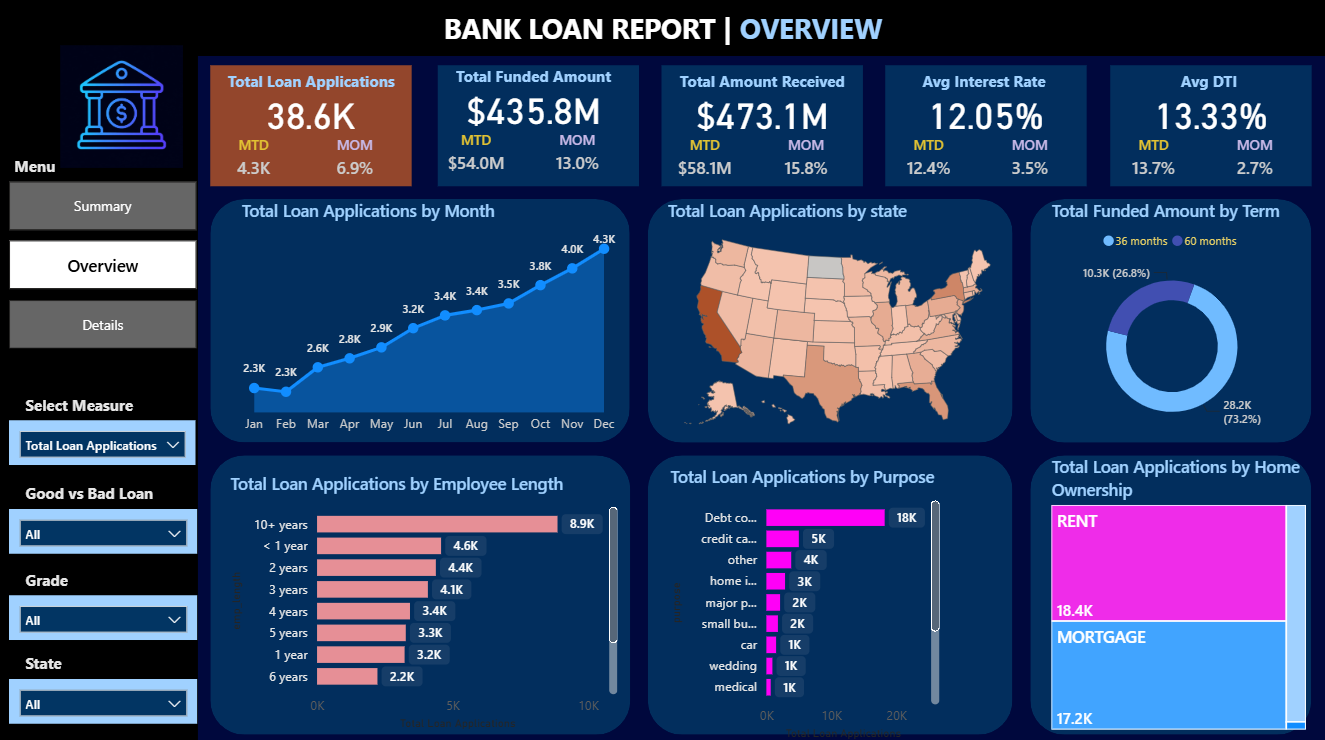

What the dashboard file says about the page in this screenshot:
{"tool":"powerbi","page":{"name":"Overview","canvas":[1280,720],"ordinal":1},"visuals":[{"type":"shape","box":[0,54.8,192,665.1],"z":0},{"type":"shape","box":[203.4,63.8,194.8,116.9],"z":0,"group":"g1"},{"type":"shape","box":[423.8,63.2,194.2,117],"z":1000,"group":"g2"},{"type":"shape","box":[639.2,63.6,194.8,116.9],"z":1000,"group":"g3"},{"type":"shape","box":[855.6,63.6,194.8,116.9],"z":1000,"group":"g4"},{"type":"shape","box":[1072,63.8,194.8,116.9],"z":1000,"group":"g5"},{"type":"card","fields":{"Values":["Bank_Loan_data.Total Loan Applications"]},"box":[203.4,82.6,194.8,53.4],"z":1000,"group":"g1"},{"type":"shape","box":[203.9,193,405,235],"z":1000},{"type":"shape","box":[0,0,1280,55],"z":2000},{"type":"textbox","box":[203.4,63.8,194.8,33.2],"z":2000,"group":"g1"},{"type":"textbox","box":[411.2,4.3,458.8,50.5],"z":3000},{"type":"card","fields":{"Values":["Bank_Loan_data.Total Funded Amount"]},"box":[419.2,77.6,194.8,53.4],"z":3000,"group":"g2"},{"type":"card","fields":{"Values":["Bank_Loan_data.Total Amount Received"]},"box":[639.2,82.4,194.8,53.4],"z":3000,"group":"g3"},{"type":"card","fields":{"Values":["Bank_Loan_data.Avg Interest Rate"]},"box":[855.6,82.4,194.8,53.4],"z":3000,"group":"g4"},{"type":"card","fields":{"Values":["Bank_Loan_data.Avg DTI"]},"box":[1072,82.6,194.8,53.4],"z":3000,"group":"g5"},{"type":"card","title":"MTD","fields":{"Values":["Date Table.MTD Loan Applications"]},"box":[203.4,131.6,83.7,49.1],"z":3000,"group":"g1"},{"type":"group","id":"g1","title":"Group 1","box":[203.4,63.8,194.8,116.9],"z":4000},{"type":"card","title":"MOM","fields":{"Values":["Date Table.MOM Loan Applications"]},"box":[301.5,131.6,83.7,49.1],"z":4000,"group":"g1"},{"type":"group","id":"g2","title":"Group 2","box":[419.2,58.8,199.1,121.9],"z":5000},{"type":"textbox","box":[419.2,58.8,194.8,33.2],"z":5000,"group":"g2"},{"type":"textbox","box":[639.2,63.6,194.8,33.2],"z":5000,"group":"g3"},{"type":"textbox","box":[855.6,63.6,194.8,33.2],"z":5000,"group":"g4"},{"type":"textbox","box":[1072,63.8,194.8,33.2],"z":5000,"group":"g5"},{"type":"group","id":"g3","title":"Group 2","box":[639.2,63.6,195.4,117],"z":6000},{"type":"card","title":"MTD","fields":{"Values":["Date Table.MTD Funded Amount"]},"box":[419.2,126.6,83.7,49.1],"z":6000,"group":"g2"},{"type":"card","title":"MTD","fields":{"Values":["Date Table.MTD Total Amount Received"]},"box":[639.2,131.4,83.7,49.1],"z":6000,"group":"g3"},{"type":"card","title":"MTD","fields":{"Values":["Date Table.MTD Avg Interest Rate"]},"box":[855.6,131.4,83.7,49.1],"z":6000,"group":"g4"},{"type":"card","title":"MTD","fields":{"Values":["Date Table.MTD Avg DTI"]},"box":[1072,131.6,83.7,49.1],"z":6000,"group":"g5"},{"type":"group","id":"g4","title":"Group 2","box":[855.6,63.6,195.4,117],"z":7000},{"type":"card","title":"MOM","fields":{"Values":["Date Table.MOM Funded Amount"]},"box":[517.3,126.6,83.7,49.1],"z":7000,"group":"g2"},{"type":"card","title":"MOM","fields":{"Values":["Date Table.MOM Total Amount Received"]},"box":[737.3,131.4,83.7,49.1],"z":7000,"group":"g3"},{"type":"card","title":"MOM","fields":{"Values":["Date Table.MOM Avg Interest Rate"]},"box":[953.7,131.4,83.7,49.1],"z":7000,"group":"g4"},{"type":"card","title":"MOM","fields":{"Values":["Date Table.MOM Avg DTI"]},"box":[1170.1,131.6,83.7,49.1],"z":7000,"group":"g5"},{"type":"group","id":"g5","title":"Group 2","box":[1072,63.8,194.8,116.9],"z":8000},{"type":"textbox","box":[20.2,545.4,76.5,30.3],"z":9000},{"type":"slicer","fields":{"Values":["Bank_Loan_data.grade"]},"box":[10.1,575.7,181.8,43.3],"z":10000},{"type":"textbox","box":[20.2,626.2,76.5,30.3],"z":11000},{"type":"slicer","fields":{"Values":["Bank_Loan_data.address_state"]},"box":[10.1,656.5,181.8,43.3],"z":12000},{"type":"textbox","box":[20.2,376.6,141.4,30.3],"z":13000},{"type":"textbox","box":[20.2,461.7,141.4,30.3],"z":14000},{"type":"areaChart","fields":{"Y":["Bank_Loan_data.Total Loan Applications"],"Category":["Date Table.Month"]},"box":[229.4,193.3,372.2,235.2],"z":15000},{"type":"slicer","fields":{"Values":["Select Measure.Select Measure"]},"box":[10.1,406.9,180.3,43.3],"z":16000},{"type":"shape","box":[626,193,352.3,235.3],"z":17000},{"type":"shapeMap","title":"Total Loan Applications by state","fields":{"Value":["Bank_Loan_data.Total Loan Applications"],"Category":["Bank_Loan_data.address_state"]},"box":[640.6,193,337.8,235.3],"z":18000},{"type":"shape","box":[995.3,193,271.4,235.3],"z":19000},{"type":"donutChart","title":"Total Funded Amount by Term","fields":{"Y":["Bank_Loan_data.Total Loan Applications"],"Category":["Bank_Loan_data.term"]},"box":[1011.4,193.3,242.4,235.2],"z":20000},{"type":"shape","box":[203.4,440,405.4,269.8],"z":21000},{"type":"barChart","title":"Total Loan Applications by Employee Length","fields":{"Y":["Bank_Loan_data.Total Loan Applications"],"Category":["Bank_Loan_data.emp_length"]},"box":[217.9,455.9,383.8,253.9],"z":22000},{"type":"shape","box":[626.2,440,352,269.8],"z":23000},{"type":"barChart","title":"Total Loan Applications by Purpose","fields":{"Y":["Bank_Loan_data.Total Loan Applications"],"Category":["Bank_Loan_data.purpose"]},"box":[643.5,450.1,269.8,269.8],"z":24000},{"type":"shape","box":[995.5,440,271.2,269.8],"z":25000},{"type":"treemap","title":"Total Loan Applications by Home Ownership","fields":{"Values":["Bank_Loan_data.Total Loan Applications"],"Group":["Bank_Loan_data.home_ownership"]},"box":[1011.4,440,255.4,269.8],"z":26000},{"type":"slicer","fields":{"Values":["Bank_Loan_data.Good vs Bad Loan"]},"box":[10.1,492,181.8,43.3],"z":27000},{"type":"pageNavigator","box":[10.1,176,181.8,163],"z":28000},{"type":"textbox","box":[10.1,145.7,141.4,30.3],"z":29000},{"type":"image","box":[59.2,44.7,118.3,118.3],"z":29001}]}

Visuals, with their boxes in screenshot pixels (x1, y1, x2, y2), scaled from the page's 1280x720 canvas onto the 1325x740 screenshot:
shape: pyautogui.locateOnScreen(0, 56, 199, 739)
shape: pyautogui.locateOnScreen(211, 66, 412, 186)
shape: pyautogui.locateOnScreen(439, 65, 640, 185)
shape: pyautogui.locateOnScreen(662, 65, 863, 186)
shape: pyautogui.locateOnScreen(886, 65, 1087, 186)
shape: pyautogui.locateOnScreen(1110, 66, 1311, 186)
card - Bank_Loan_data.Total Loan Applications: pyautogui.locateOnScreen(211, 85, 412, 140)
shape: pyautogui.locateOnScreen(211, 198, 630, 440)
shape: pyautogui.locateOnScreen(0, 0, 1324, 57)
textbox: pyautogui.locateOnScreen(211, 66, 412, 100)
textbox: pyautogui.locateOnScreen(426, 4, 901, 56)
card - Bank_Loan_data.Total Funded Amount: pyautogui.locateOnScreen(434, 80, 636, 135)
card - Bank_Loan_data.Total Amount Received: pyautogui.locateOnScreen(662, 85, 863, 140)
card - Bank_Loan_data.Avg Interest Rate: pyautogui.locateOnScreen(886, 85, 1087, 140)
card - Bank_Loan_data.Avg DTI: pyautogui.locateOnScreen(1110, 85, 1311, 140)
"MTD" card: pyautogui.locateOnScreen(211, 135, 297, 186)
"Group 1" group: pyautogui.locateOnScreen(211, 66, 412, 186)
"MOM" card: pyautogui.locateOnScreen(312, 135, 399, 186)
"Group 2" group: pyautogui.locateOnScreen(434, 60, 640, 186)
textbox: pyautogui.locateOnScreen(434, 60, 636, 95)
textbox: pyautogui.locateOnScreen(662, 65, 863, 99)
textbox: pyautogui.locateOnScreen(886, 65, 1087, 99)
textbox: pyautogui.locateOnScreen(1110, 66, 1311, 100)
"Group 2" group: pyautogui.locateOnScreen(662, 65, 864, 186)
"MTD" card: pyautogui.locateOnScreen(434, 130, 521, 181)
"MTD" card: pyautogui.locateOnScreen(662, 135, 748, 186)
"MTD" card: pyautogui.locateOnScreen(886, 135, 972, 186)
"MTD" card: pyautogui.locateOnScreen(1110, 135, 1196, 186)
"Group 2" group: pyautogui.locateOnScreen(886, 65, 1088, 186)
"MOM" card: pyautogui.locateOnScreen(535, 130, 622, 181)
"MOM" card: pyautogui.locateOnScreen(763, 135, 850, 186)
"MOM" card: pyautogui.locateOnScreen(987, 135, 1074, 186)
"MOM" card: pyautogui.locateOnScreen(1211, 135, 1298, 186)
"Group 2" group: pyautogui.locateOnScreen(1110, 66, 1311, 186)
textbox: pyautogui.locateOnScreen(21, 561, 100, 592)
slicer - Bank_Loan_data.grade: pyautogui.locateOnScreen(10, 592, 199, 636)
textbox: pyautogui.locateOnScreen(21, 644, 100, 675)
slicer - Bank_Loan_data.address_state: pyautogui.locateOnScreen(10, 675, 199, 719)
textbox: pyautogui.locateOnScreen(21, 387, 167, 418)
textbox: pyautogui.locateOnScreen(21, 475, 167, 506)
areaChart - Bank_Loan_data.Total Loan Applications x Date Table.Month: pyautogui.locateOnScreen(237, 199, 623, 440)
slicer - Select Measure.Select Measure: pyautogui.locateOnScreen(10, 418, 197, 463)
shape: pyautogui.locateOnScreen(648, 198, 1013, 440)
"Total Loan Applications by state" shapeMap: pyautogui.locateOnScreen(663, 198, 1013, 440)
shape: pyautogui.locateOnScreen(1030, 198, 1311, 440)
"Total Funded Amount by Term" donutChart: pyautogui.locateOnScreen(1047, 199, 1298, 440)
shape: pyautogui.locateOnScreen(211, 452, 630, 730)
"Total Loan Applications by Employee Length" barChart: pyautogui.locateOnScreen(226, 469, 623, 730)
shape: pyautogui.locateOnScreen(648, 452, 1013, 730)
"Total Loan Applications by Purpose" barChart: pyautogui.locateOnScreen(666, 463, 945, 739)
shape: pyautogui.locateOnScreen(1030, 452, 1311, 730)
"Total Loan Applications by Home Ownership" treemap: pyautogui.locateOnScreen(1047, 452, 1311, 730)
slicer - Bank_Loan_data.Good vs Bad Loan: pyautogui.locateOnScreen(10, 506, 199, 550)
pageNavigator: pyautogui.locateOnScreen(10, 181, 199, 348)
textbox: pyautogui.locateOnScreen(10, 150, 157, 181)
image: pyautogui.locateOnScreen(61, 46, 184, 168)
